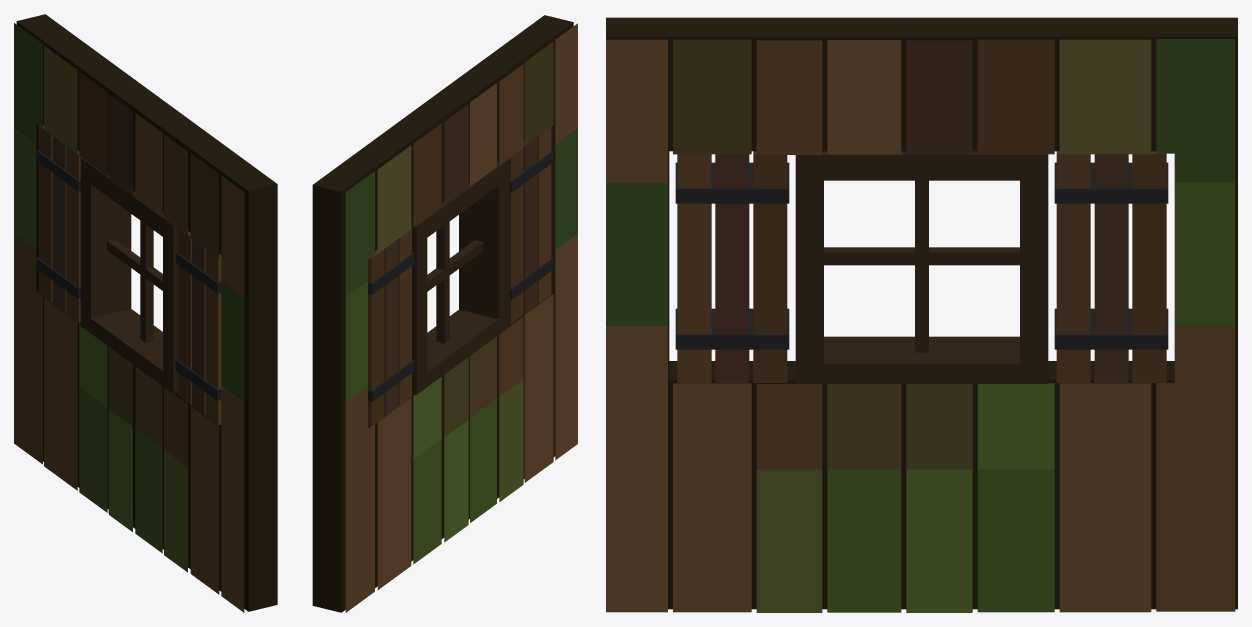
Rendered from wall-mossy-window-shutters.glb.
3 views of the same model, side by side, from view 1: azimuth 30°, elevation 25°; view 2: azimuth 150°, elevation 25°; view 3: azimuth 270°, elevation 25° (orthographic). The views are drawn at different scales.
Parts seen in each view (by area): view 1: wall-mossy-window-shutters; view 2: wall-mossy-window-shutters; view 3: wall-mossy-window-shutters.
Boxes of the visible parts, left/top/right/bottom form: wall-mossy-window-shutters: left=14, top=14, right=277, bottom=612; wall-mossy-window-shutters: left=312, top=15, right=577, bottom=612; wall-mossy-window-shutters: left=606, top=17, right=1237, bottom=612.
Bounding box in the file's own units: 0.1 × 1 × 1.
